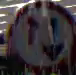Two way: (9, 0, 75, 66)
